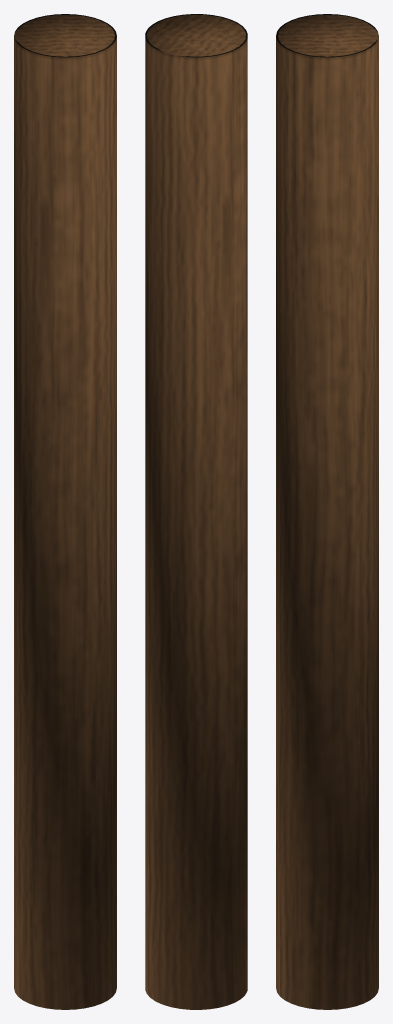
The model's file is Timber column__n8.glb.
3 views of the same model, side by side, from view 1: azimuth 90°, elevation 25°; view 2: azimuth 150°, elevation 25°; view 3: azimuth 270°, elevation 25° (orthographic).
Visible parts, largest first — view 1: Timber column; view 2: Timber column; view 3: Timber column.
Part boxes in pixels (x1=…): Timber column: x1=14, y1=14, x2=116, y2=1009; Timber column: x1=145, y1=14, x2=247, y2=1009; Timber column: x1=276, y1=14, x2=378, y2=1009.
Size of the model in its own units: 0.46 by 4.7 by 0.46.
Materials: 1 (1 with a texture image).
